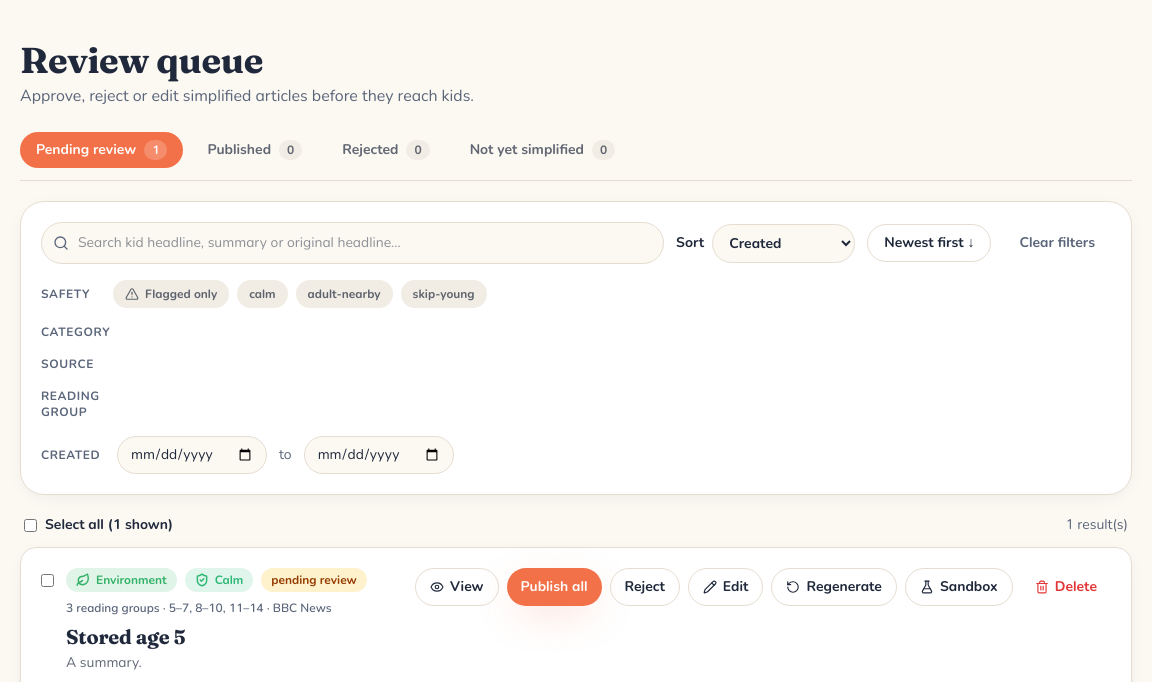
Test case: starting a story-scoped regeneration › reports a refusal from the server
This screenshot has width=1152, height=682.
Expected: the button "Stored age 5" is shown, [66,624,186,649]
Click the button "Regenerate" at (834, 587), box [772,568,897,606]
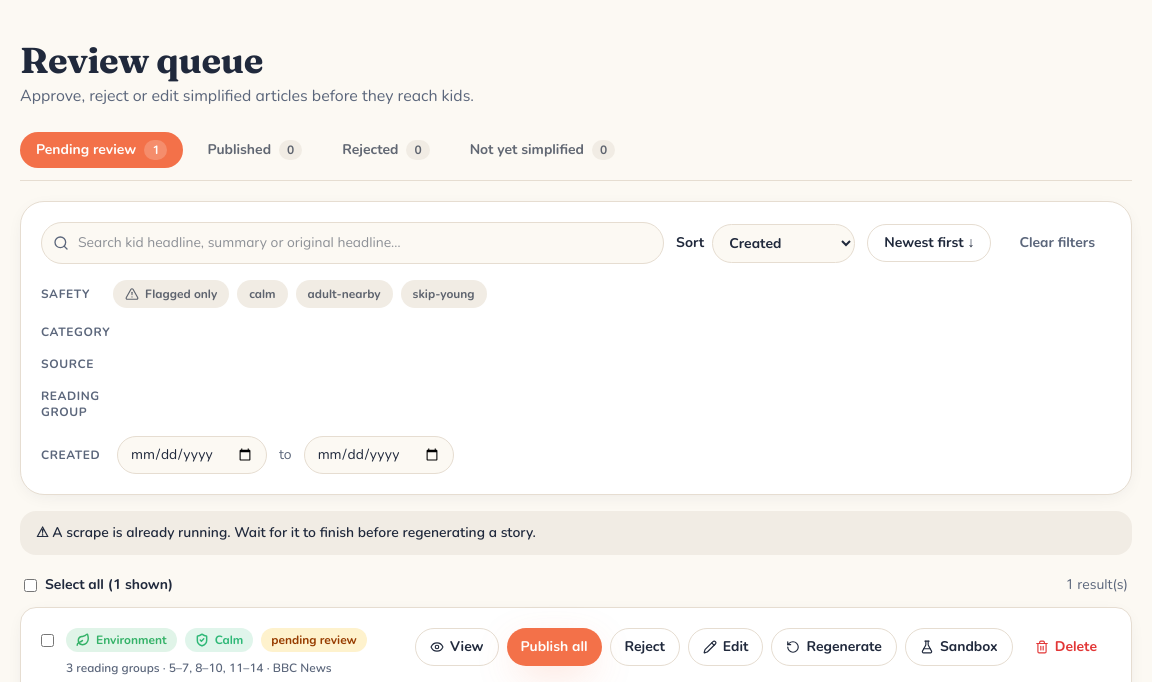
Expected: the text "A scrape is already running" is shown, [36,523,536,542]
